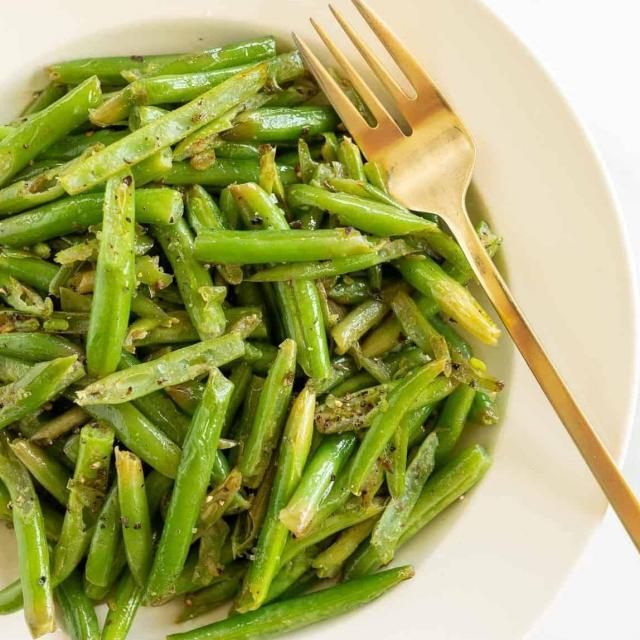Beans: (0, 21, 512, 639)
